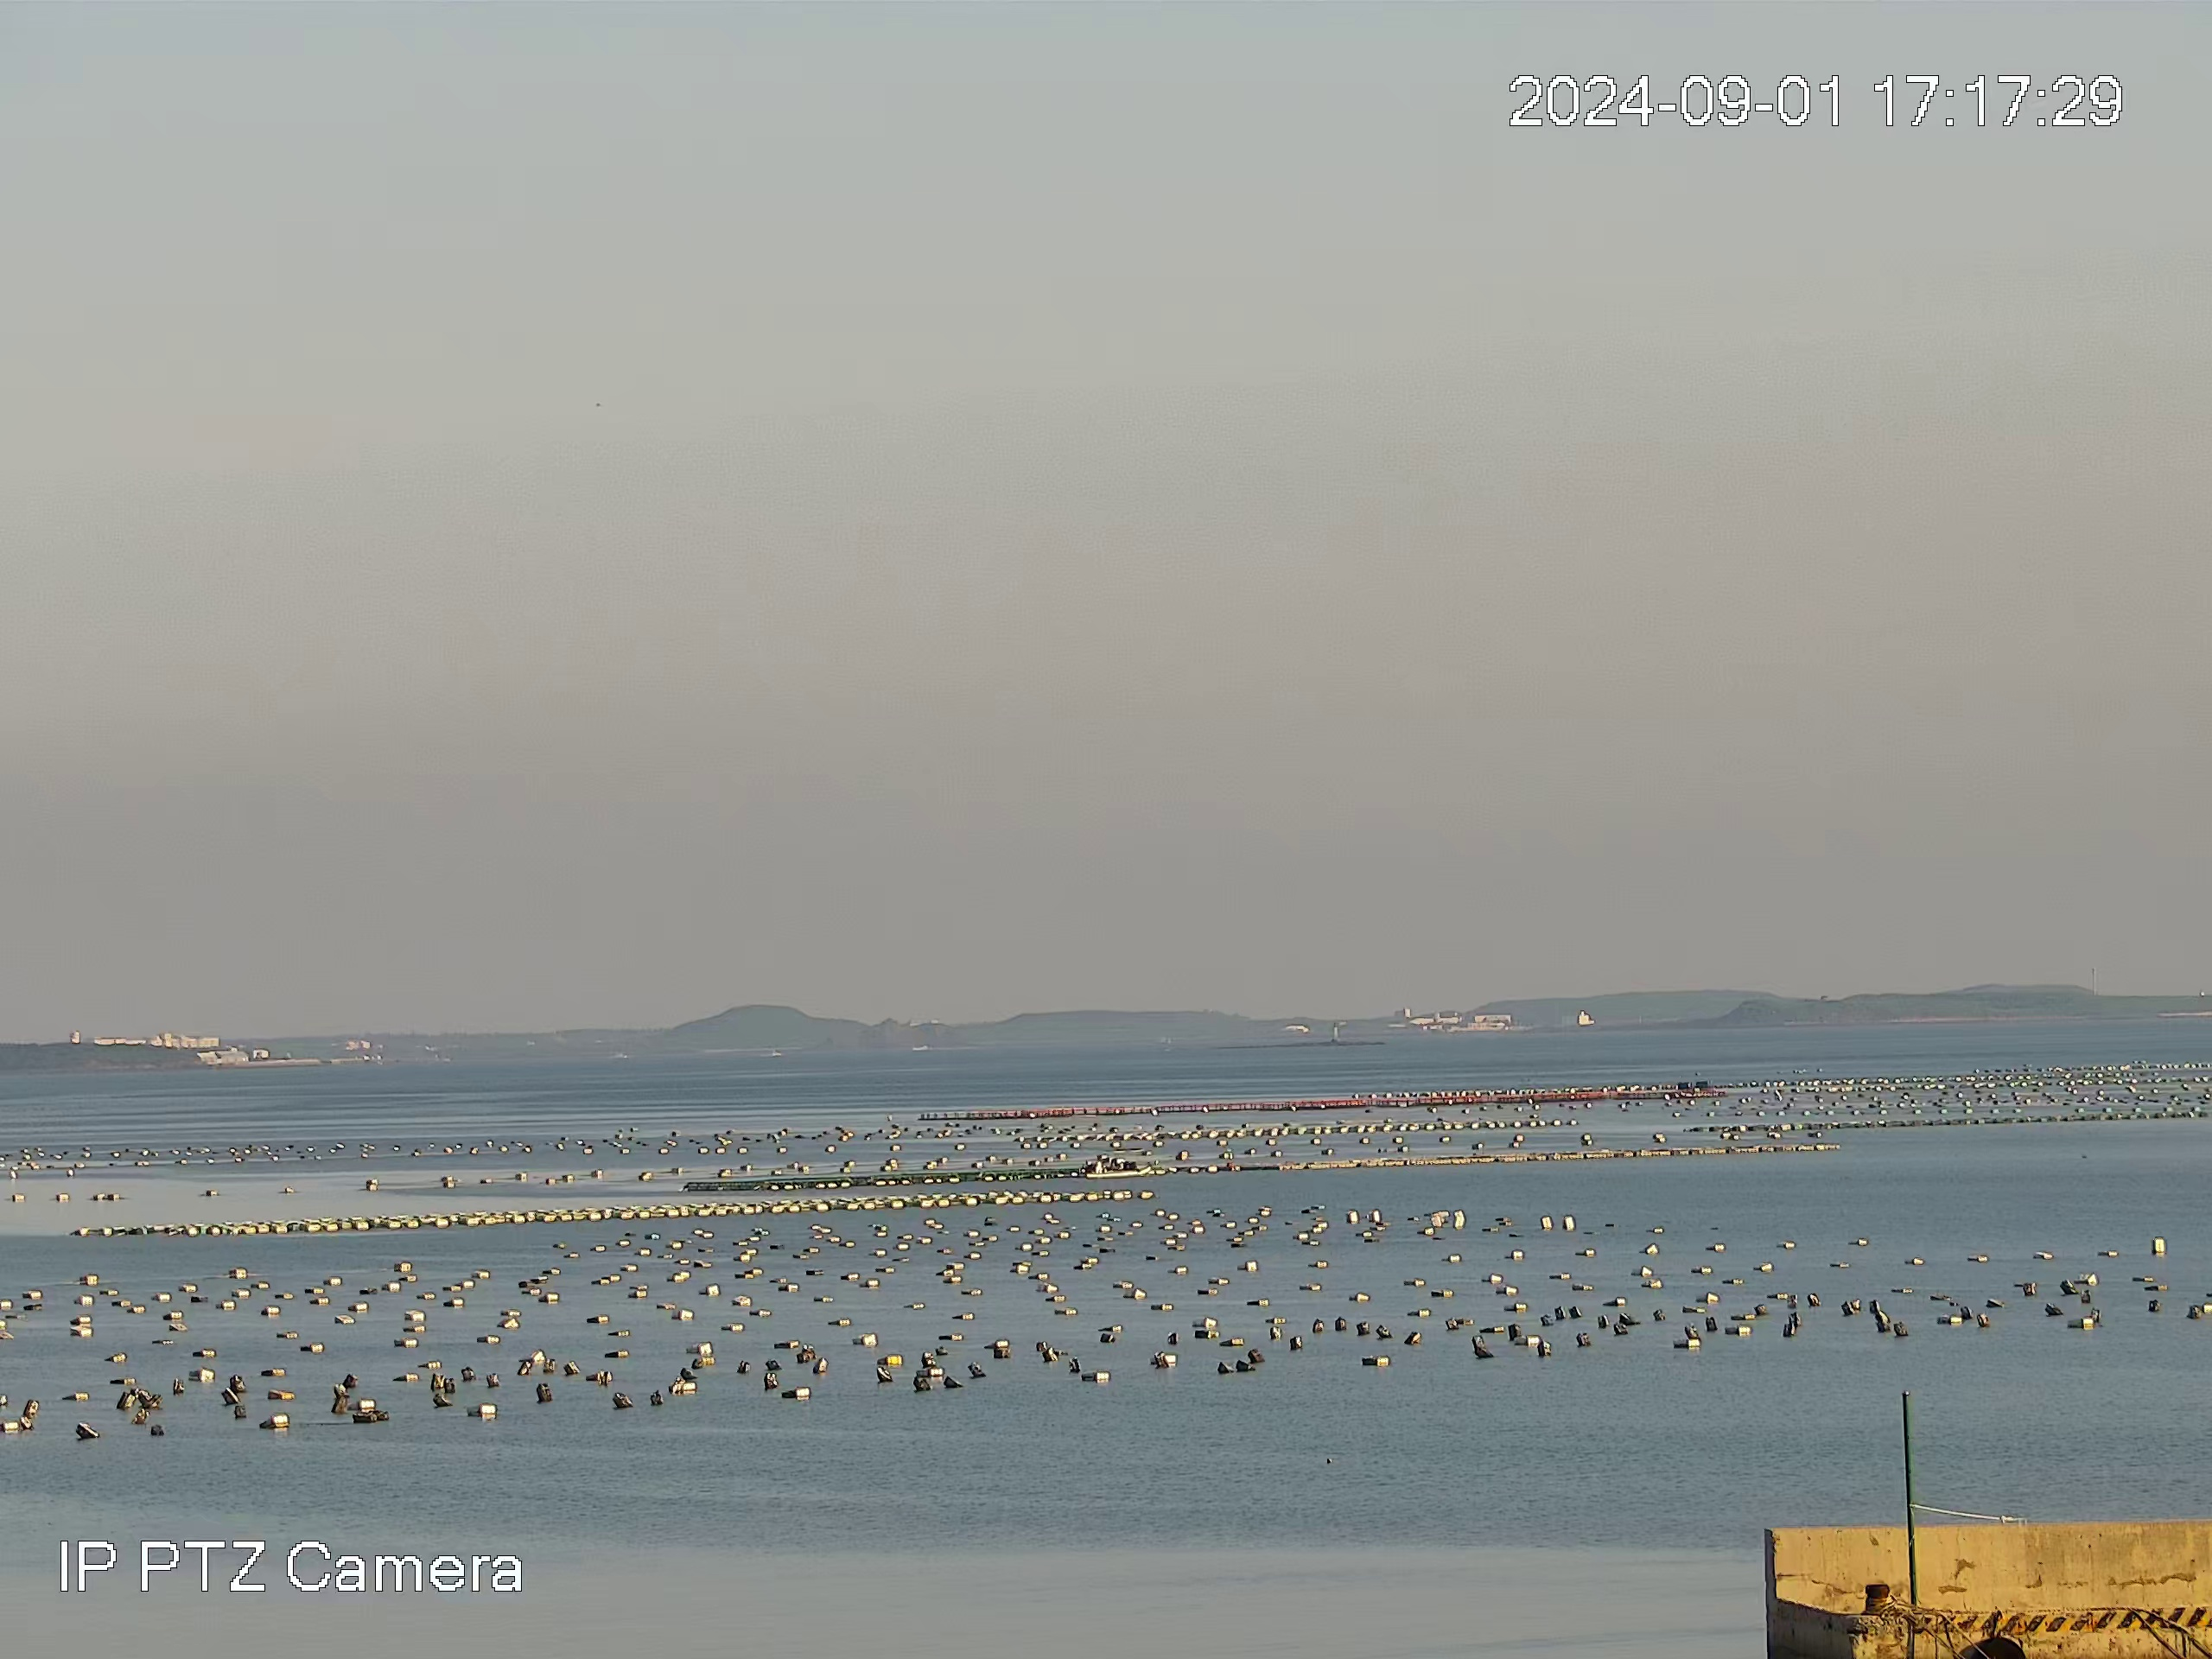boat: (1089, 1148, 1151, 1173)
